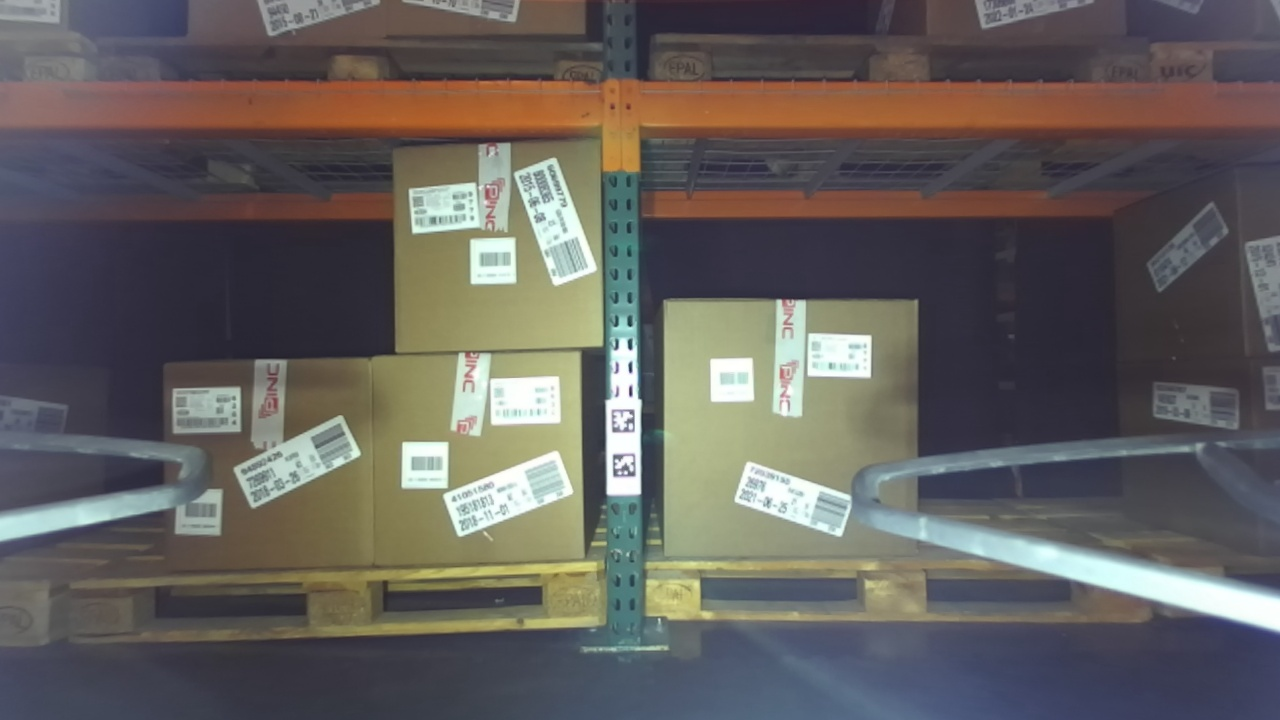box: (651, 290, 933, 575), (370, 119, 618, 362), (354, 342, 601, 576), (153, 344, 387, 581)
